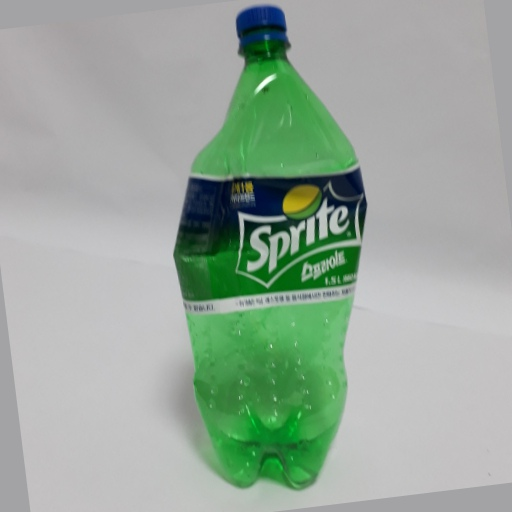Plastic_0: (171, 2, 373, 493)
